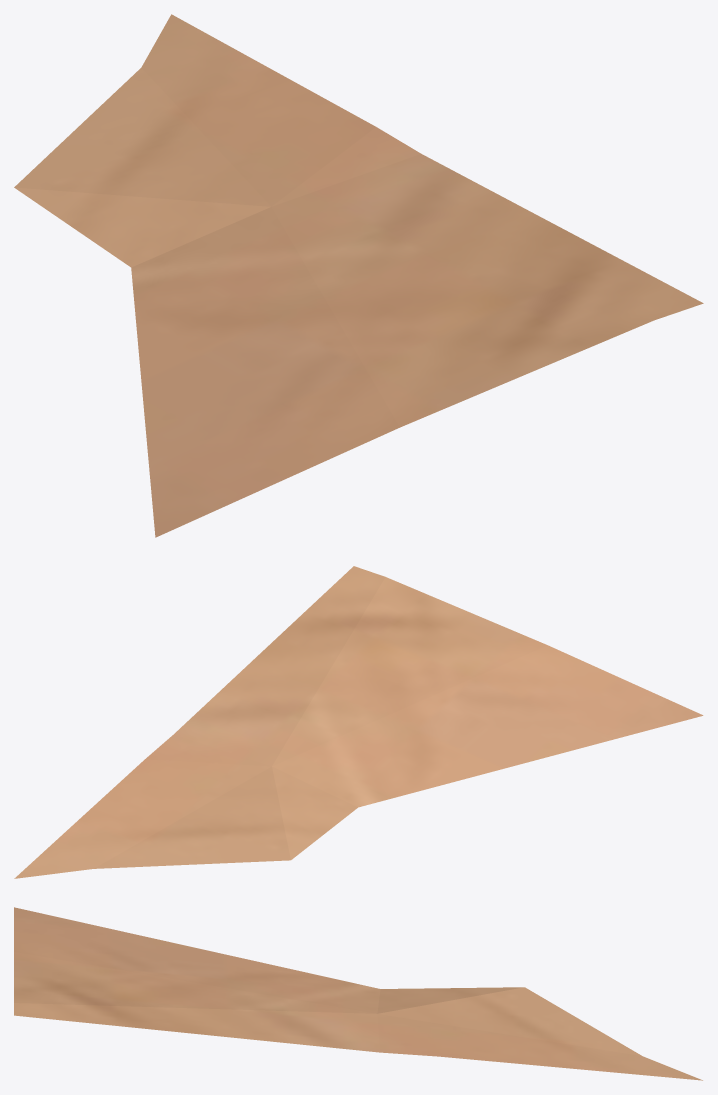
The picture shows the model from 3 angles, top to bottom: view 1: azimuth 30°, elevation 25°; view 2: azimuth 150°, elevation 25°; view 3: azimuth 270°, elevation 25°; orthographic projection. The views are drawn at different scales.
Bounding box in the file's own units: 0.1135 × 0.0199 × 0.1908.
1 material, 1 textured.
